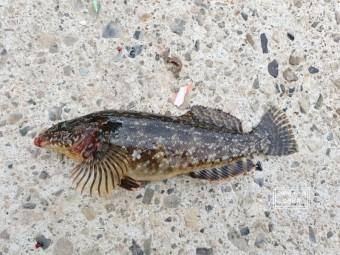fish: (35, 105, 297, 194)
